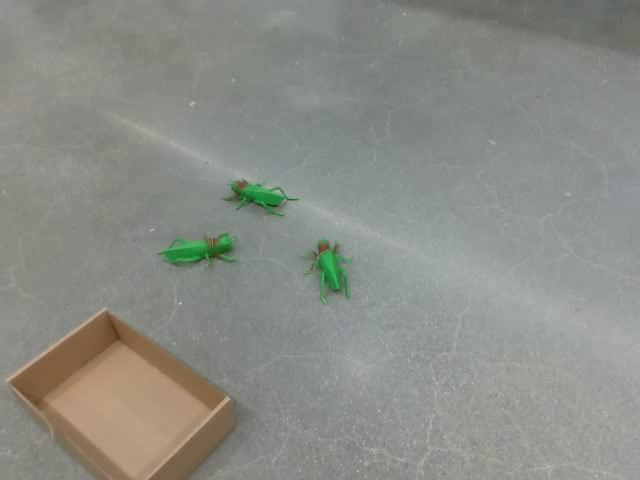box: (4, 306, 236, 479)
grasshopper: (303, 238, 351, 304), (224, 177, 299, 217), (156, 231, 237, 268)
